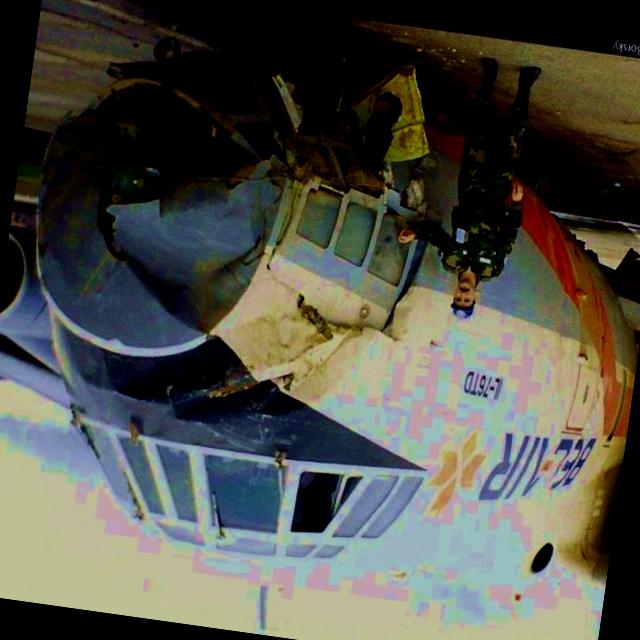dent: (177, 364, 290, 428)
